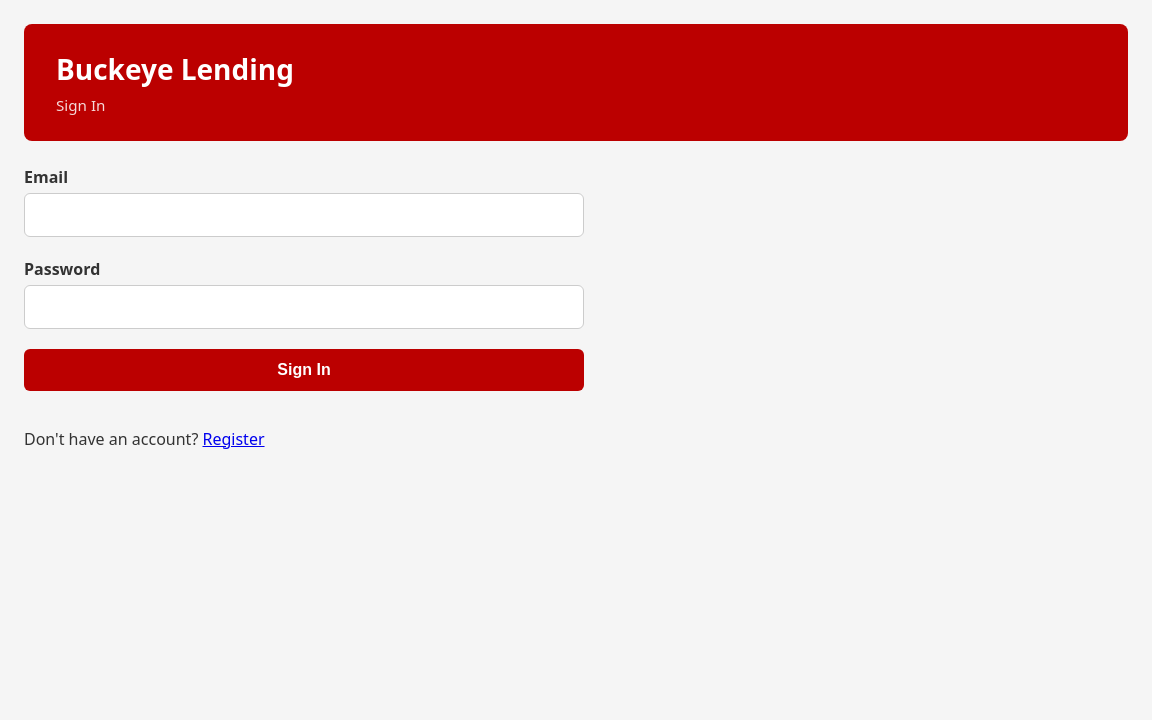
Test: LoginPage › shows an error when submitting with empty fields
The image size is (1152, 720).
Click the button "Sign In".
click(304, 370)  # box 24,349 -> 584,391
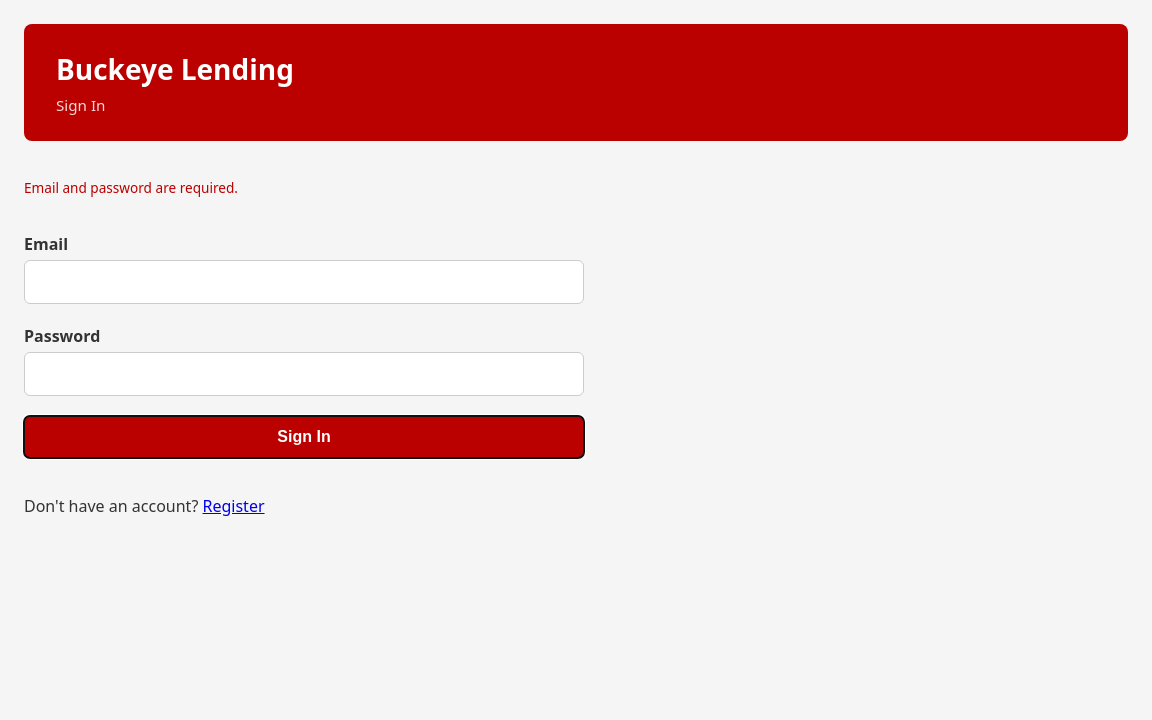
Expected: the text "Email and password are required." is shown, 24,178 -> 238,197
